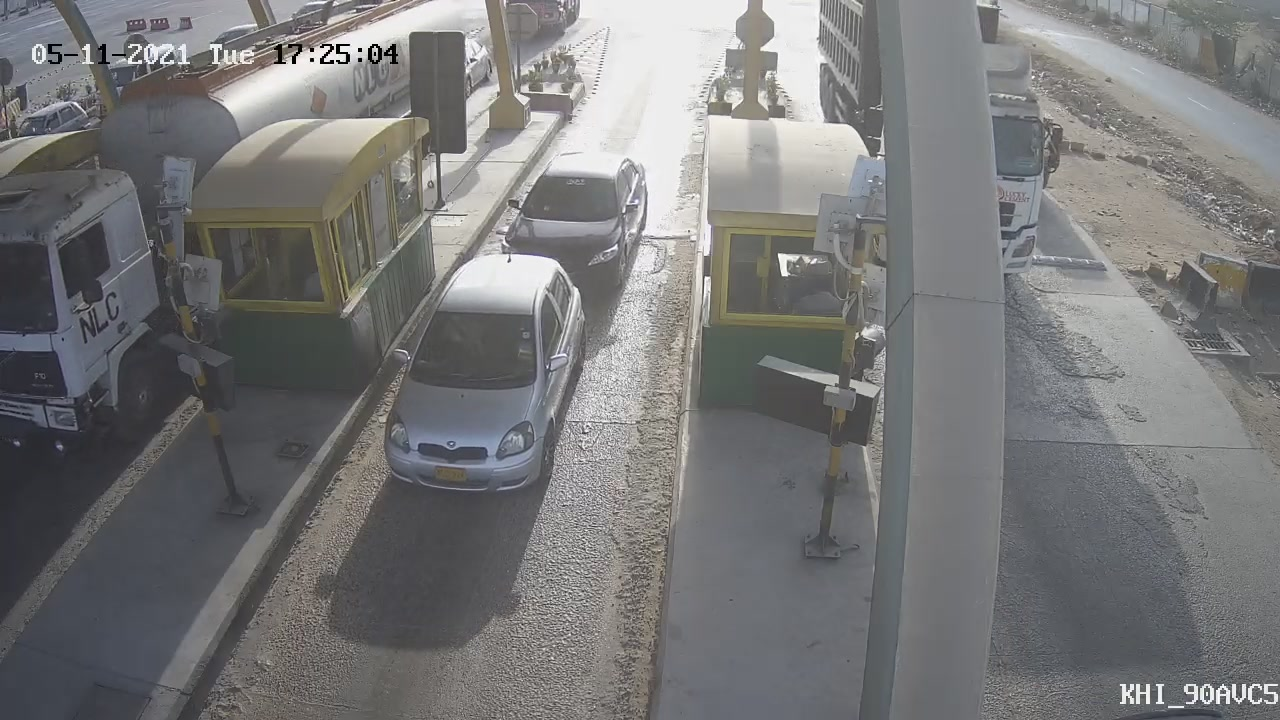F1: (359, 235, 608, 524), (482, 134, 664, 307)
